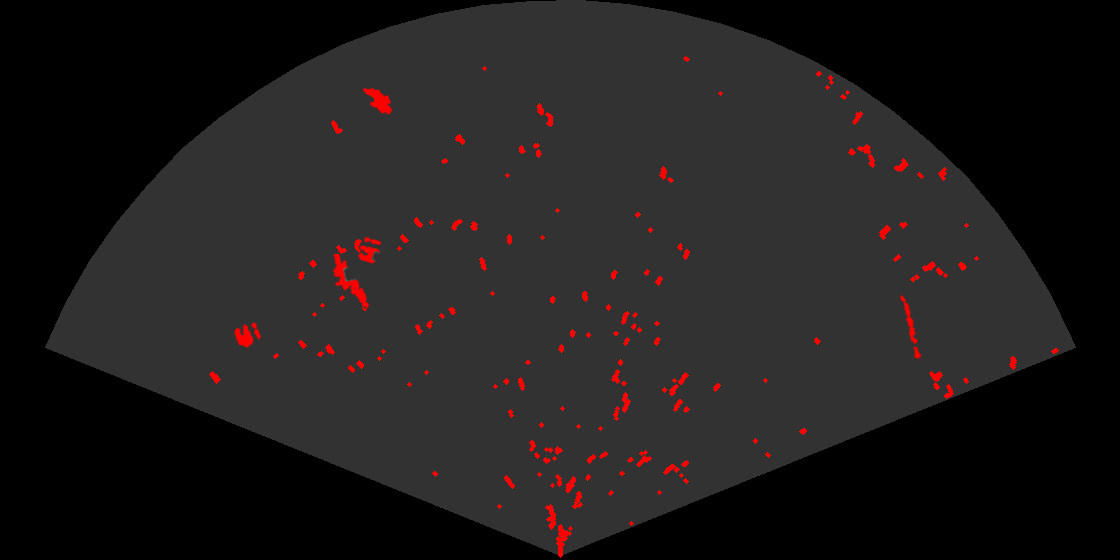AUV: (361, 86, 394, 116)
ball: (232, 321, 263, 349), (356, 235, 383, 265)
chain: (898, 292, 923, 361)
frogman: (331, 254, 371, 310)
